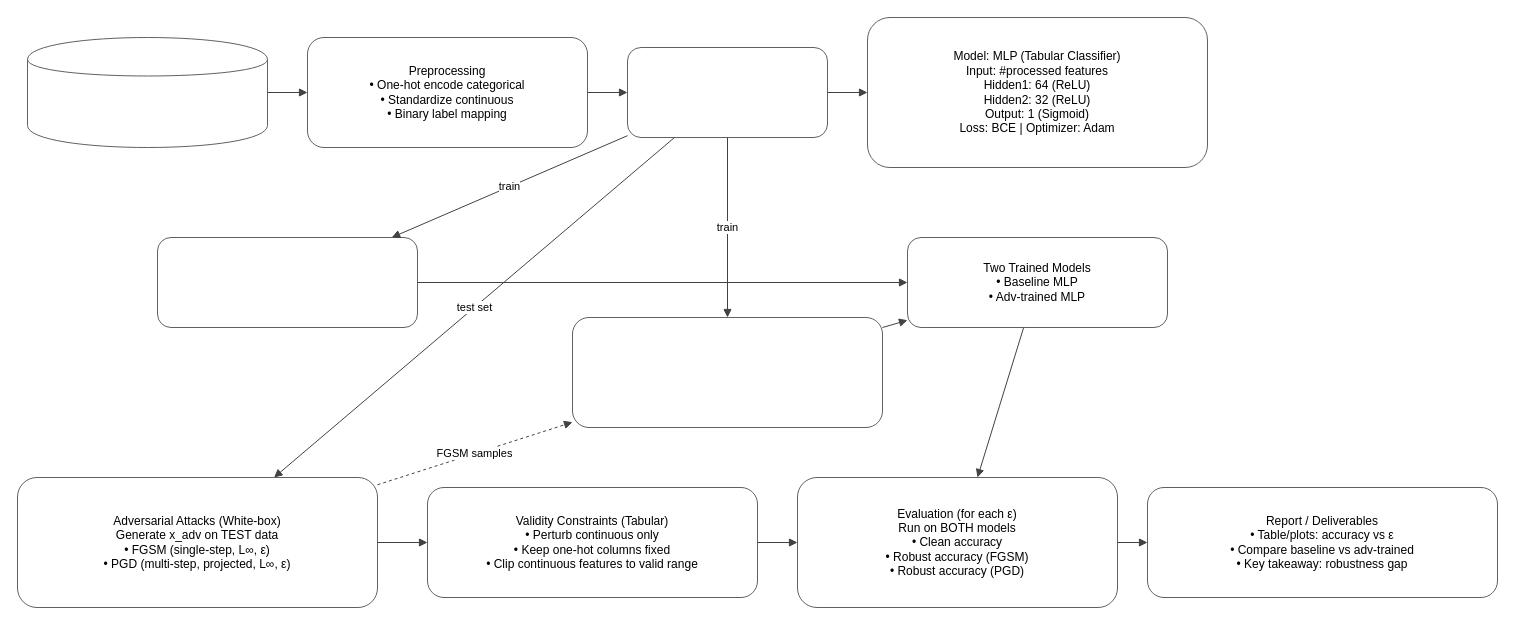
The diagram is 1515 pixels wide and 625 high, and some of its shapes have lost their labels. The shapes that lost their labels are listed below. From the top down, each one's centre as x and y in pixels, then its label:
the point at 147,92: Dataset NSL-KDD (tabular network traffic) Label: Normal vs Attack (binary)
the point at 727,92: Split Train / Validation / Test
the point at 287,282: Train Baseline Model Train on normalized samples only
the point at 727,372: Train Defense Model Adversarial Training (FGSM) Train on: clean + FGSM samples
